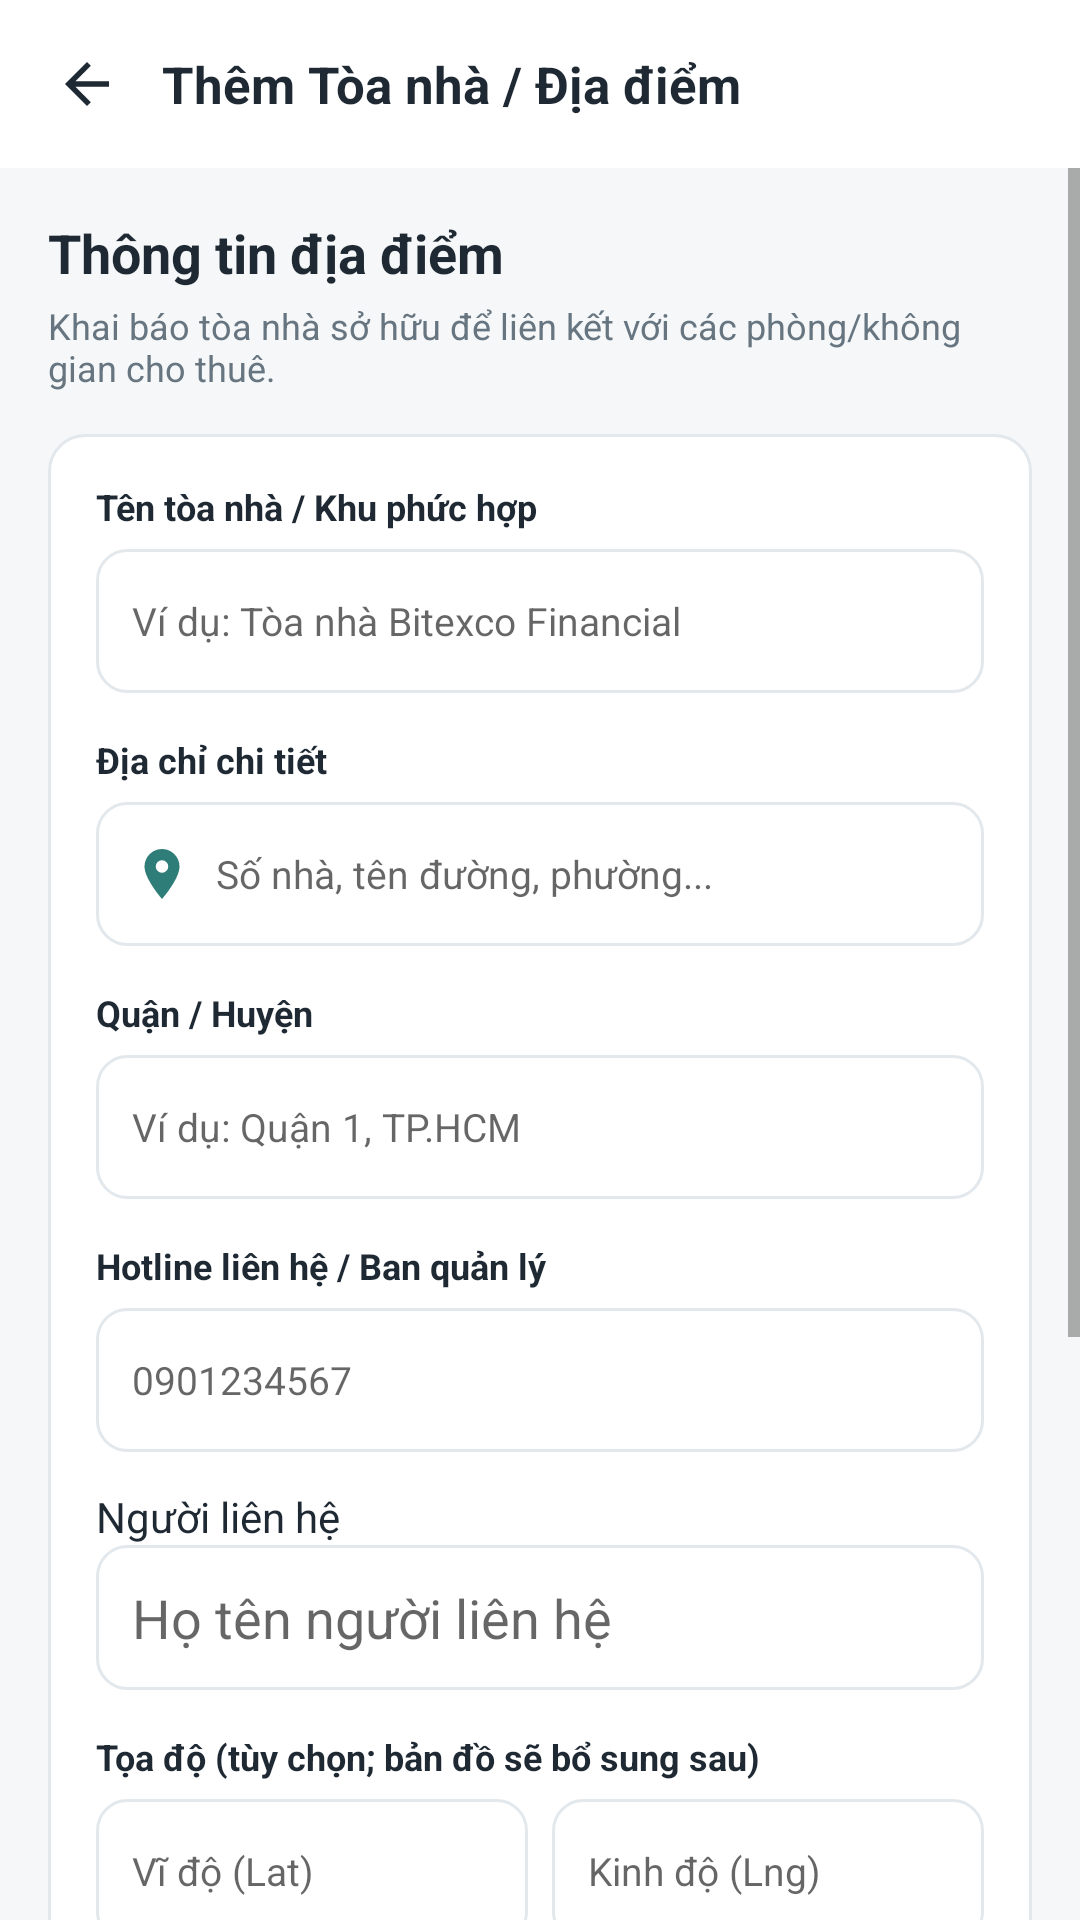

Where icons sit on this 1080px×1920px app screen, as (x1, y1, x2, y2):
Quay lại: (65, 62, 109, 106)
